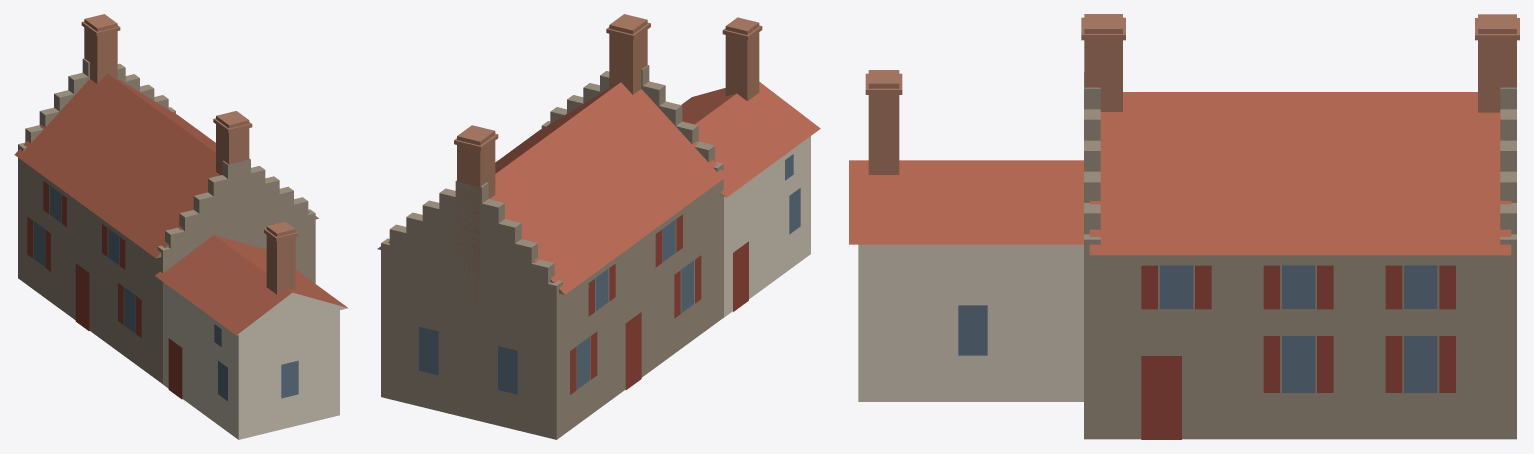
Rendered from nyc-old-stone-house.glb.
The picture shows the model from 3 angles, left to right: view 1: azimuth 30°, elevation 25°; view 2: azimuth 150°, elevation 25°; view 3: azimuth 270°, elevation 25°; orthographic projection. The views are drawn at different scales.
Parts seen in each view (by area): view 1: Old Stone House; view 2: Old Stone House; view 3: Old Stone House.
Boxes of the visible parts, x1,y1,x2,y2 form: Old Stone House: [14, 14, 348, 439]; Old Stone House: [377, 14, 820, 439]; Old Stone House: [849, 14, 1519, 439].
Size of the model in its own units: 7.61 by 10.8 by 18.13.
